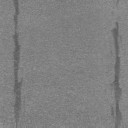red iron: (12, 0, 24, 128), (110, 22, 123, 128), (116, 0, 118, 8)
